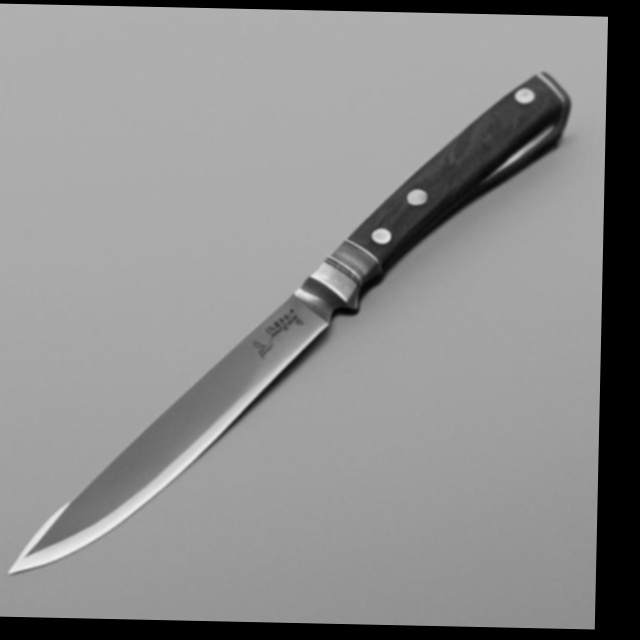Sharp-Object: (3, 54, 577, 594)
